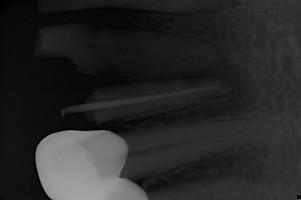Furcation Involvement: (188, 59, 262, 116)
